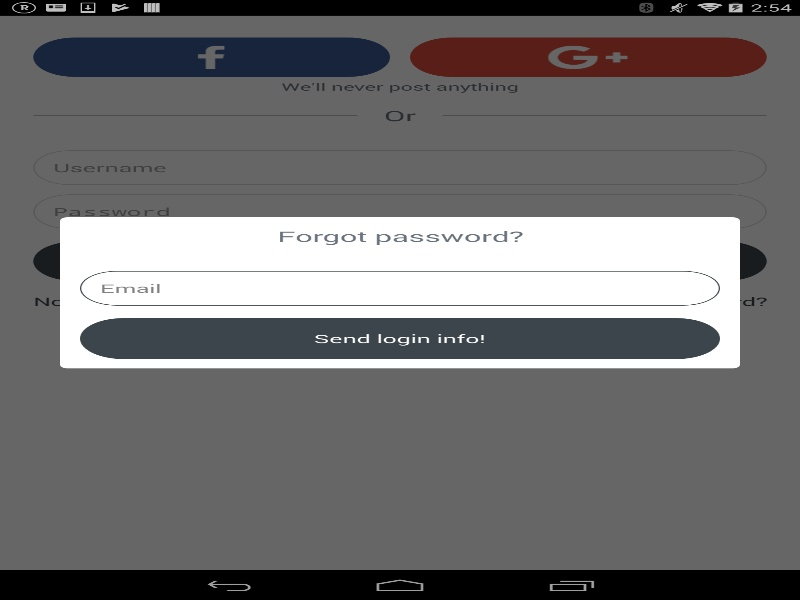Input: (80, 270, 720, 305)
